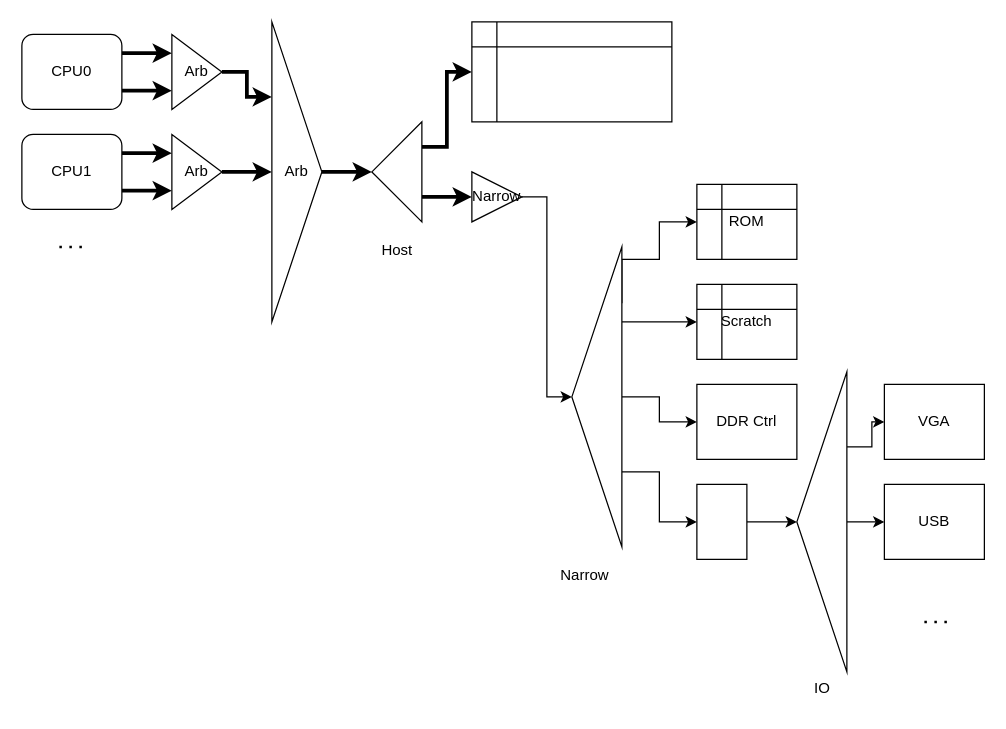
Image size: 1006x729. Some labels were removed from this diagram. The centre of each missing label's shape, as x and y in pixels:
DDR3: the point at 571,71
Reg: the point at 721,521
